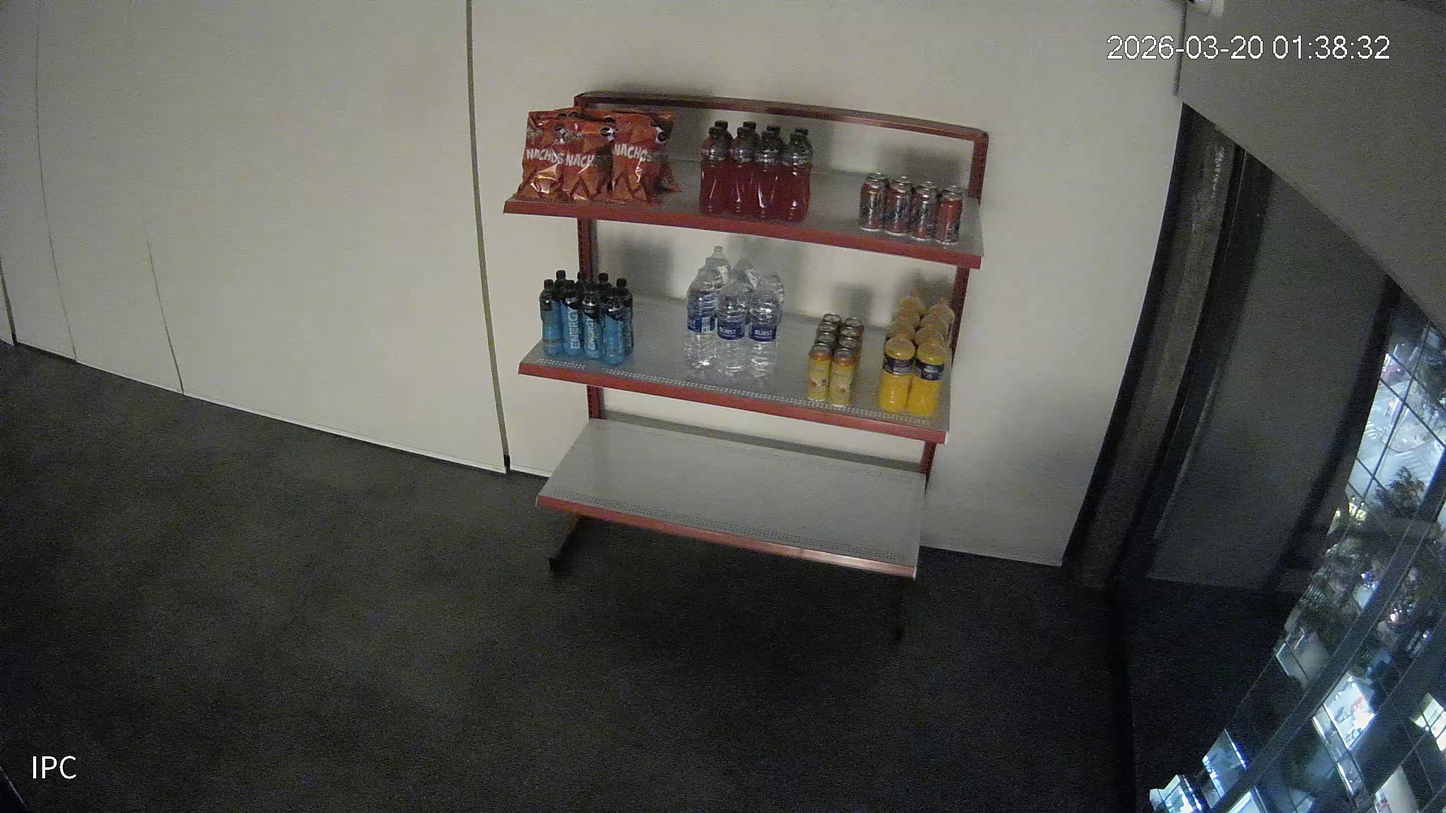agua_burst: (715, 270, 749, 374), (746, 280, 780, 375), (686, 268, 718, 367)
burst_energetica_roja: (699, 126, 729, 215), (795, 127, 814, 164), (743, 122, 760, 143)
burst_energy: (562, 280, 584, 355), (594, 273, 614, 297), (554, 269, 567, 291)
nachos_naturasol: (514, 112, 567, 202), (626, 109, 676, 139), (581, 107, 619, 122)
nebraska_mango: (843, 317, 865, 341), (813, 332, 836, 347), (820, 314, 842, 328)
sisi_cola: (908, 188, 938, 241), (859, 180, 886, 232), (940, 184, 963, 199)
sun_paradise_naranja: (877, 330, 914, 412), (891, 302, 920, 328), (914, 321, 943, 344)
